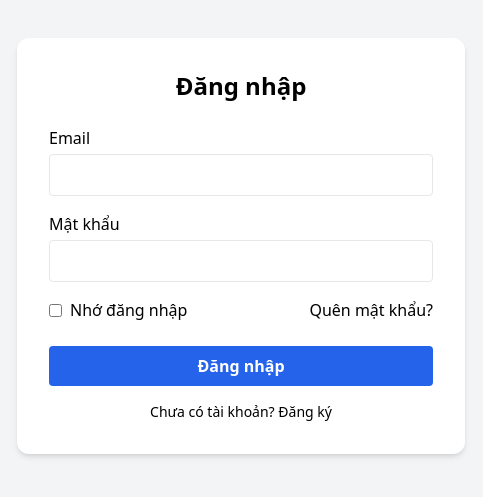
Test: LoginPage Integration Test › shows validation errors on blur
Step 1. Submit the form with test id "form-login"
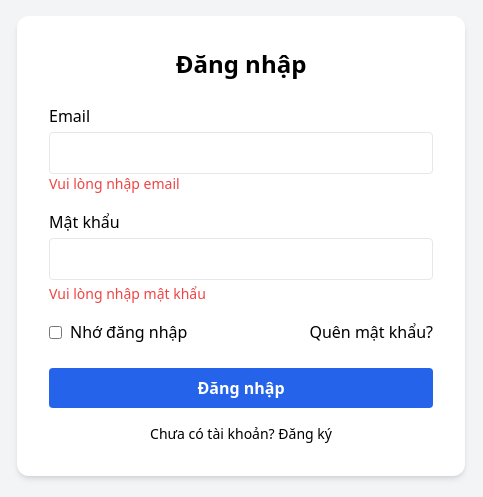
Check: the text "Vui lòng nhập email" is shown, box [49,174,180,193]
Check: the text "Vui lòng nhập mật khẩu" is shown, box [49,284,206,303]
Step 2. Type "sai-email" into the field labelled "Email" → (241, 153), box [49,132,433,174]
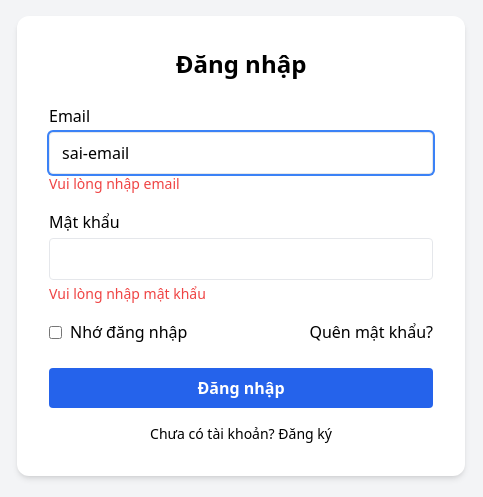
Step 3. Submit the form with test id "form-login"
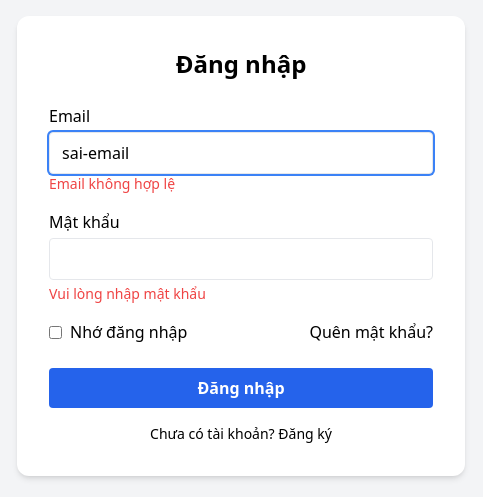
Check: the text "Email không hợp lệ" is shown, box [49,174,175,193]
